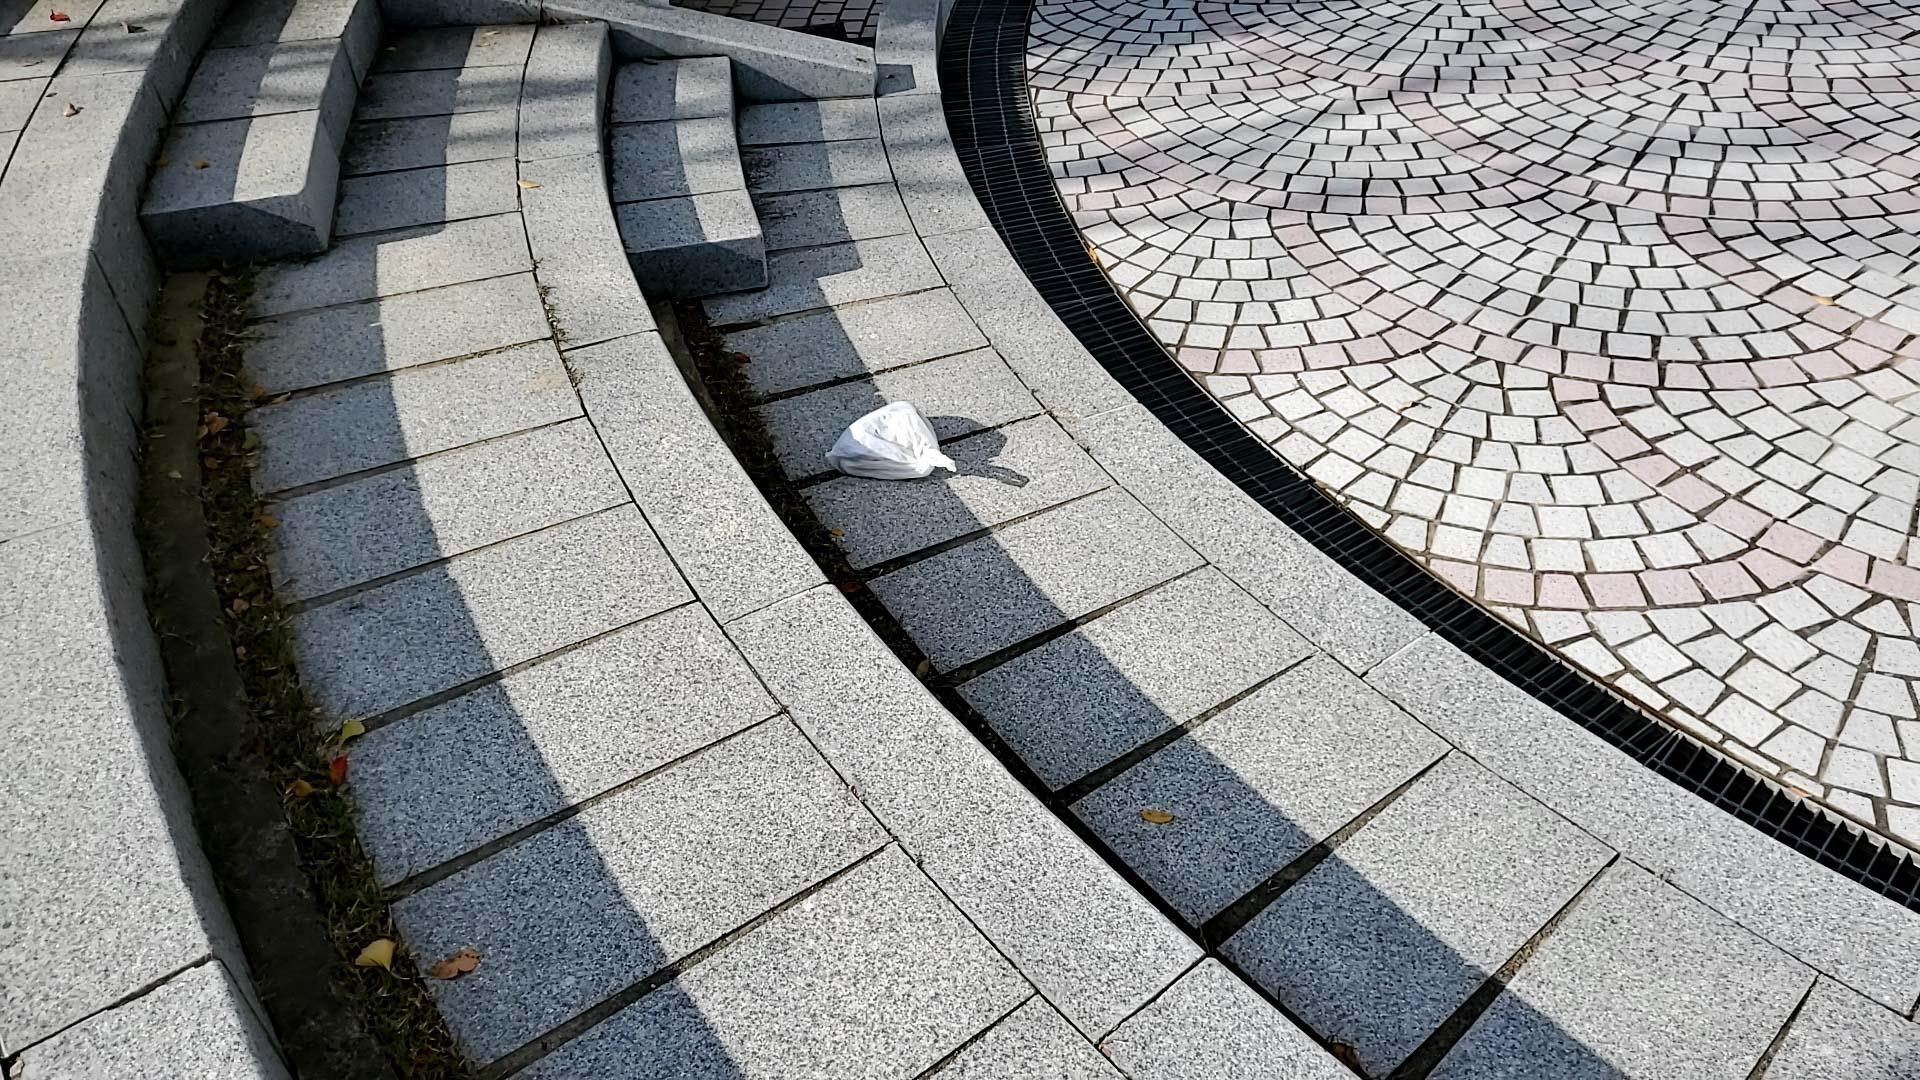white_bag: (816, 392, 963, 491)
